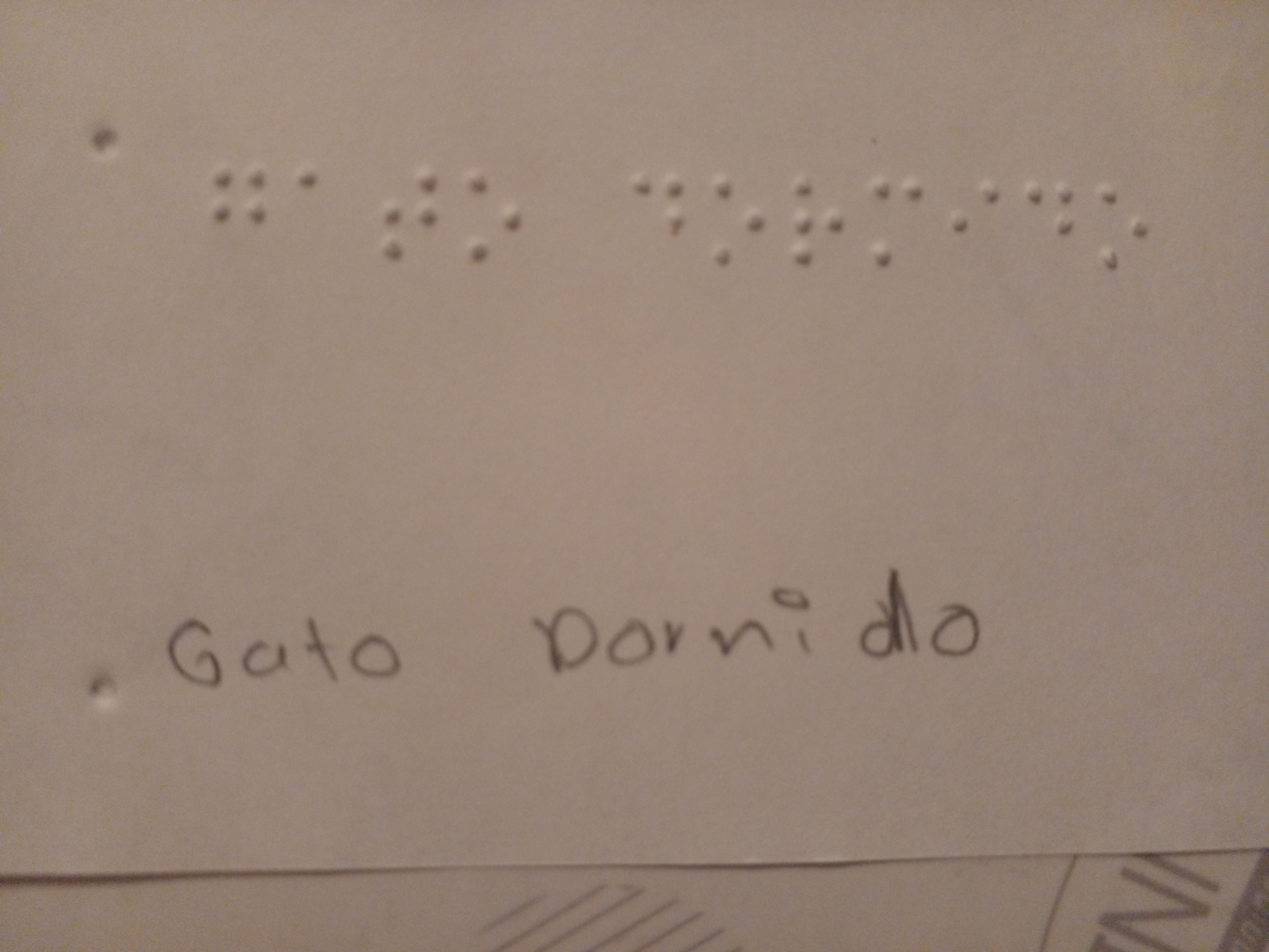a: (282, 155, 322, 211)
d: (621, 163, 700, 249), (1016, 167, 1080, 256)
g: (203, 147, 274, 259)
i: (943, 167, 999, 260)
m: (857, 167, 937, 285)
o: (459, 167, 525, 274), (1091, 172, 1157, 276), (709, 169, 771, 270)
r: (792, 170, 854, 273)
t: (361, 161, 449, 263)
